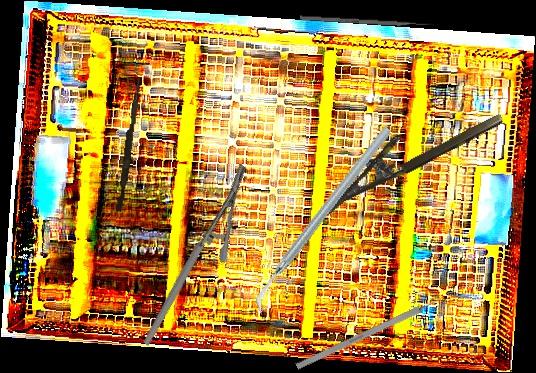Chopper: (210, 124, 437, 315)
Hook Surgical: (295, 293, 449, 370)
Needle Holder: (96, 161, 292, 348), (305, 89, 506, 217)
Pusher: (115, 76, 142, 213), (299, 15, 438, 28)
